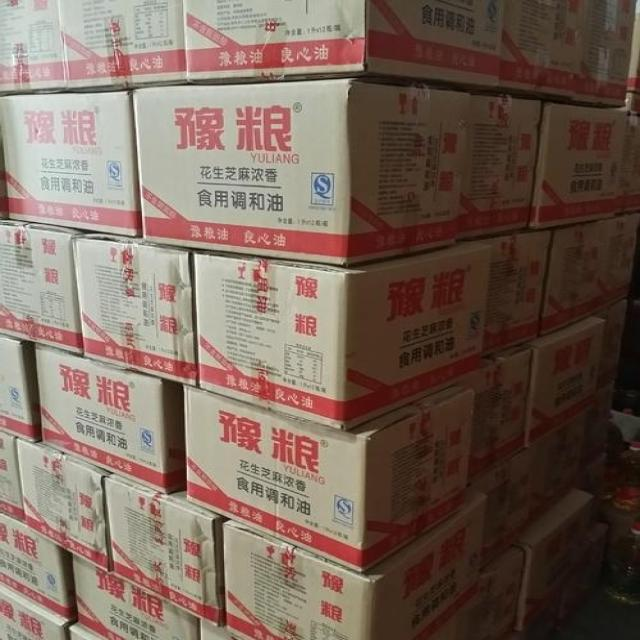box: (135, 77, 468, 264), (180, 383, 475, 574), (197, 241, 492, 426), (224, 483, 485, 637), (185, 1, 506, 92), (36, 342, 191, 492), (0, 87, 141, 240), (73, 229, 201, 386), (111, 472, 225, 629), (459, 88, 546, 241), (17, 435, 113, 573), (0, 214, 87, 356), (539, 214, 639, 336), (532, 102, 627, 228), (59, 1, 185, 89), (76, 551, 202, 639), (512, 488, 599, 615), (457, 343, 532, 481), (527, 312, 603, 444), (477, 225, 553, 355), (495, 2, 589, 102), (530, 520, 609, 634), (0, 515, 78, 621), (434, 546, 525, 636), (477, 444, 535, 565), (532, 410, 591, 526), (575, 2, 639, 107), (0, 0, 69, 94), (1, 335, 43, 444), (593, 297, 628, 407), (1, 585, 71, 638), (612, 105, 639, 216), (0, 428, 28, 526), (588, 394, 615, 483), (582, 458, 614, 527), (601, 508, 625, 581), (625, 14, 639, 109), (66, 619, 106, 639), (204, 621, 243, 639)
